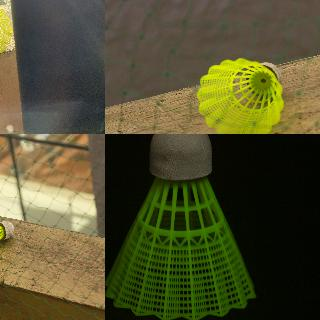shuttlecock: (105, 134, 255, 319), (197, 57, 284, 133), (0, 0, 13, 59), (0, 218, 14, 262)
